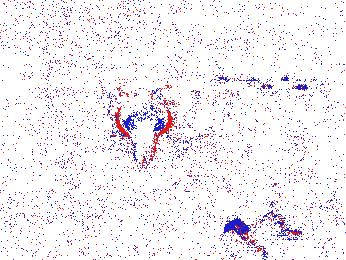flame jellyfish: (113, 91, 176, 170), (216, 211, 304, 260), (33, 216, 93, 260)
